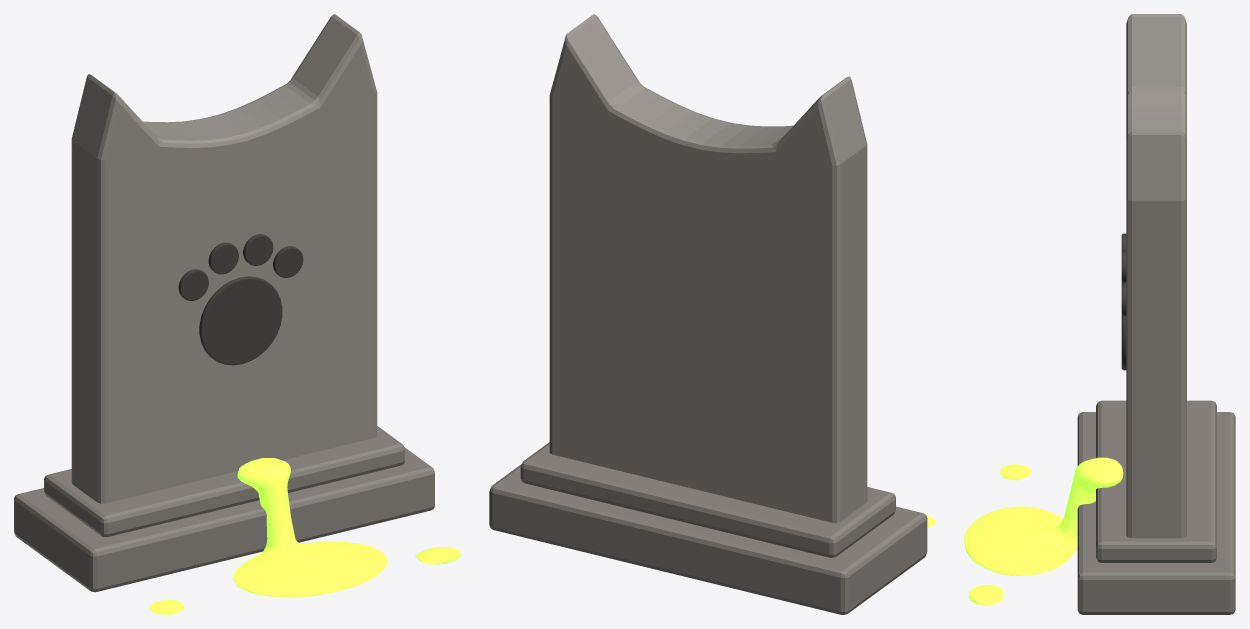
File: zc_tombstone_cat.mobile-high.glb
3 views of the same model, side by side, from view 1: azimuth 30°, elevation 25°; view 2: azimuth 150°, elevation 25°; view 3: azimuth 270°, elevation 25° (orthographic). The views are drawn at different scales.
Parts seen in each view (by area): view 1: zc_tombstone_cat, blob1; view 2: zc_tombstone_cat; view 3: zc_tombstone_cat, blob1.
Boxes of the visible parts, left/top/right/bottom form: zc_tombstone_cat: left=14, top=14, right=434, bottom=592; blob1: left=149, top=458, right=460, bottom=614; zc_tombstone_cat: left=489, top=14, right=927, bottom=614; zc_tombstone_cat: left=1077, top=14, right=1235, bottom=614; blob1: left=964, top=457, right=1123, bottom=605.
Size of the model in its own units: 0.84 by 1.11 by 0.5833.
1 material, 1 textured.
